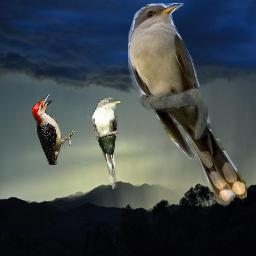Cuckoo: (128, 3, 247, 202), (92, 97, 122, 190)
Woodpecker: (32, 94, 79, 165)
